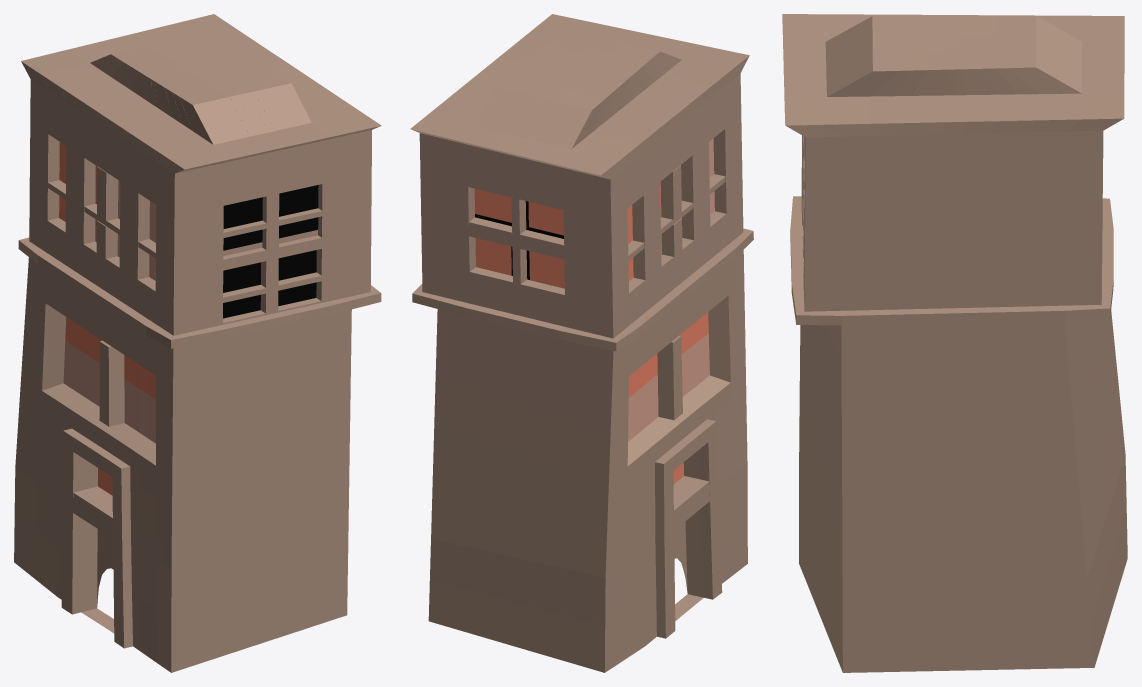
File: Building_Two.fbx
3 views of the same model, side by side, from view 1: azimuth 30°, elevation 25°; view 2: azimuth 150°, elevation 25°; view 3: azimuth 270°, elevation 25° (orthographic). The views are drawn at different scales.
Parts seen in each view (by area): view 1: Plane.003; view 2: Plane.003; view 3: Plane.003.
Part boxes in pixels (x1,y1,x2,y2): Plane.003: (14, 14, 381, 672); Plane.003: (410, 14, 753, 672); Plane.003: (782, 14, 1127, 672).
Size of the model in its own units: 1555 by 3560 by 1916.
